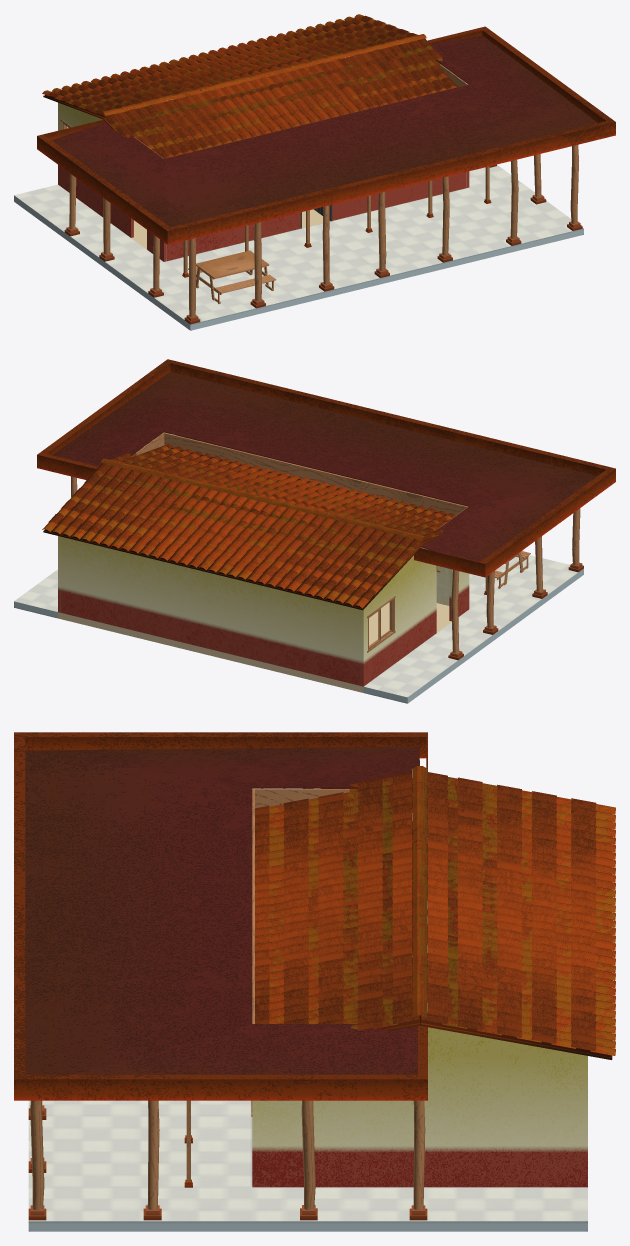
File: Casa_Yta_.fbx
3 renders of one model, top to bottom at view 1: azimuth 30°, elevation 25°; view 2: azimuth 150°, elevation 25°; view 3: azimuth 270°, elevation 25°, orthographic. The views are drawn at different scales.
Visible parts, largest first — view 1: Casa_Yta, piso_baldoza_afuera.001, Mesa__, piso_balddoza_andetro.001; view 2: Casa_Yta, piso_baldoza_afuera.001, piso_balddoza_andetro.001; view 3: Casa_Yta, piso_baldoza_afuera.001.
Part boxes in pixels (x1,y1,x2,y2): Casa_Yta: [37, 14, 615, 324]; piso_baldoza_afuera.001: [14, 165, 583, 330]; Mesa__: [188, 250, 276, 303]; piso_balddoza_andetro.001: [131, 209, 329, 249]; Casa_Yta: [37, 359, 615, 686]; piso_baldoza_afuera.001: [14, 555, 583, 703]; piso_balddoza_andetro.001: [58, 602, 451, 692]; Casa_Yta: [14, 732, 615, 1220]; piso_baldoza_afuera.001: [28, 1100, 587, 1231].
Bounding box in the file's own units: 1467 × 373 × 1076.
Materials: 20 (19 with a texture image).
